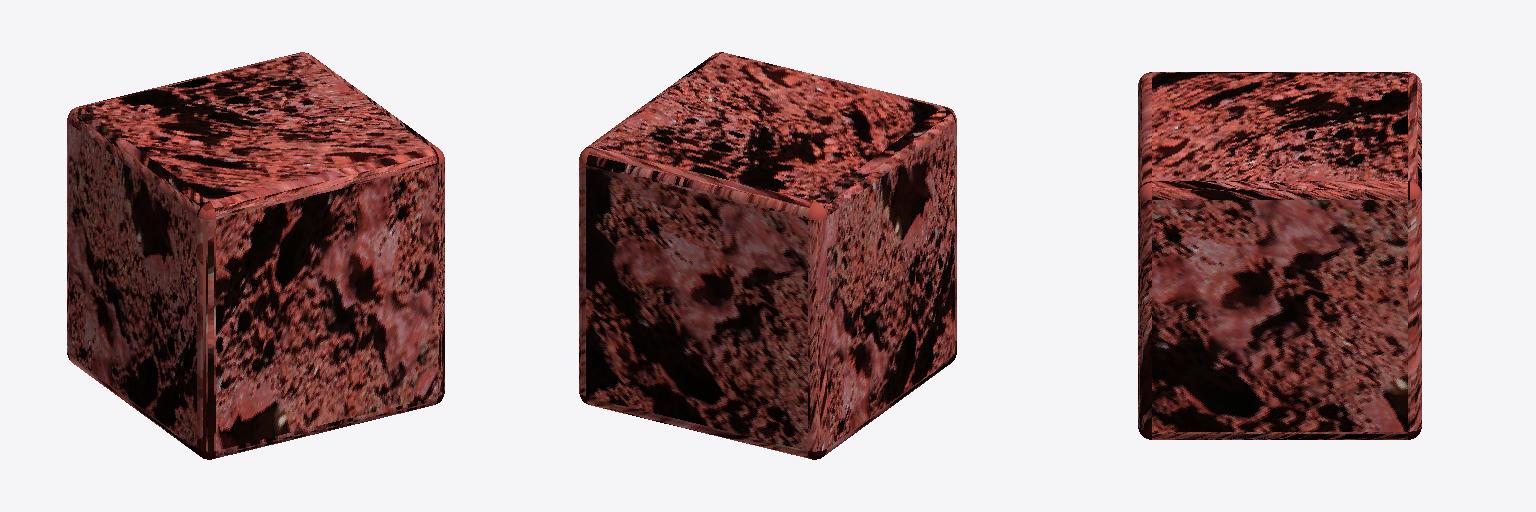
3 renders of one model, left to right at view 1: azimuth 30°, elevation 25°; view 2: azimuth 150°, elevation 25°; view 3: azimuth 270°, elevation 25°, orthographic.
Visible parts, largest first — view 1: Cube; view 2: Cube; view 3: Cube.
Boxes of the visible parts, x1=… form: Cube: x1=67, y1=52, x2=444, y2=459; Cube: x1=579, y1=52, x2=956, y2=459; Cube: x1=1138, y1=72, x2=1421, y2=439.
Bounding box in the file's own units: 2 × 2 × 2.
1 materials, 1 textured.